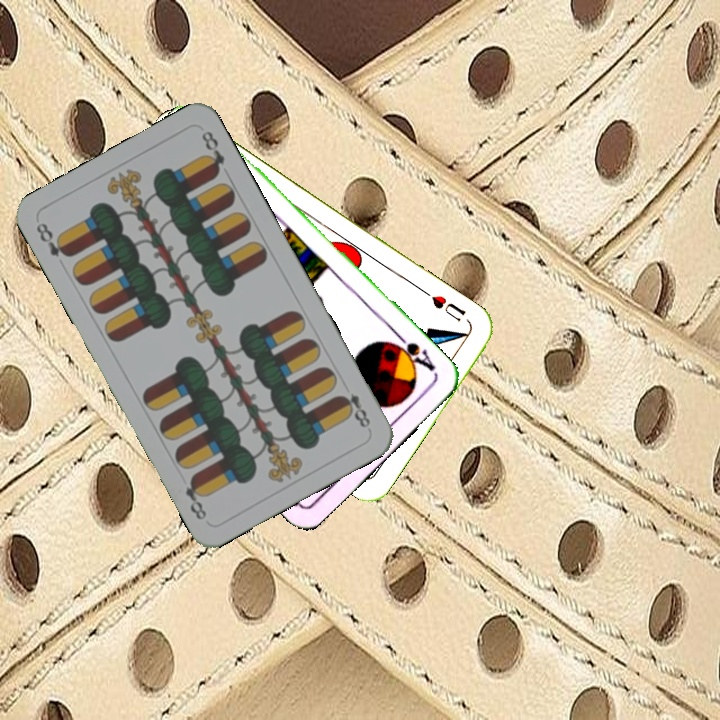E8: (32, 218, 74, 260), (335, 388, 373, 433)
HU: (420, 287, 469, 324)
SA: (386, 330, 439, 377)
